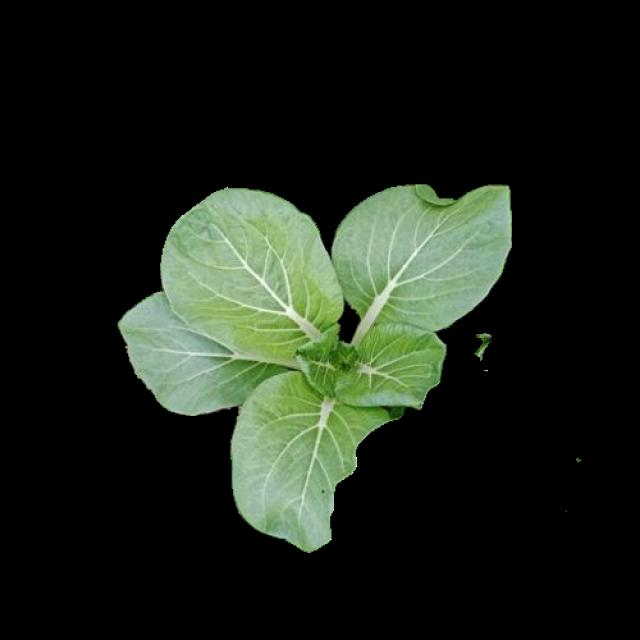healthy: (109, 170, 516, 548)
not-mature: (111, 173, 518, 550)
